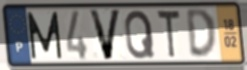4: (65, 9, 90, 63)
D: (184, 7, 219, 61)
M: (25, 10, 64, 61)
Q: (123, 9, 157, 62)
T: (155, 8, 182, 61)
V: (87, 8, 123, 62)
